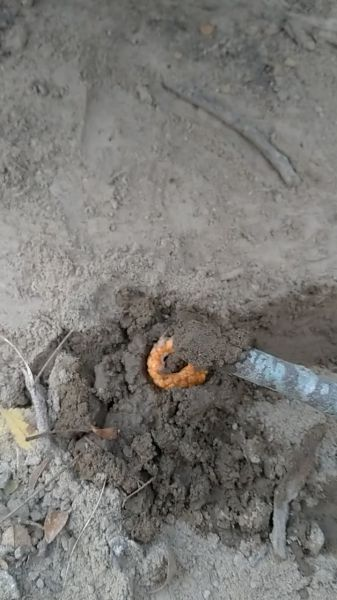eggs: (140, 331, 213, 394)
